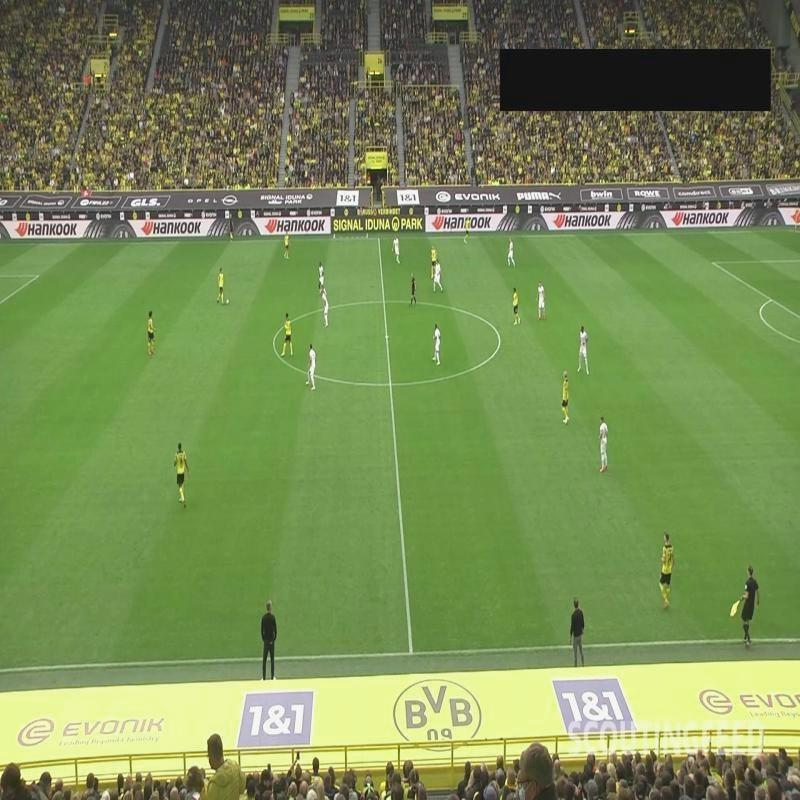1: (790, 224, 800, 238)
10: (764, 294, 778, 308)
13: (373, 231, 387, 245)
14: (377, 294, 391, 308)
15: (384, 376, 397, 390)
16: (404, 642, 418, 656)
9: (704, 258, 722, 270), (32, 268, 46, 282)
c: (493, 326, 506, 349), (268, 335, 278, 352)
